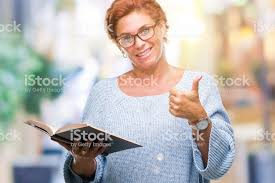white_female: (107, 14, 175, 74)
